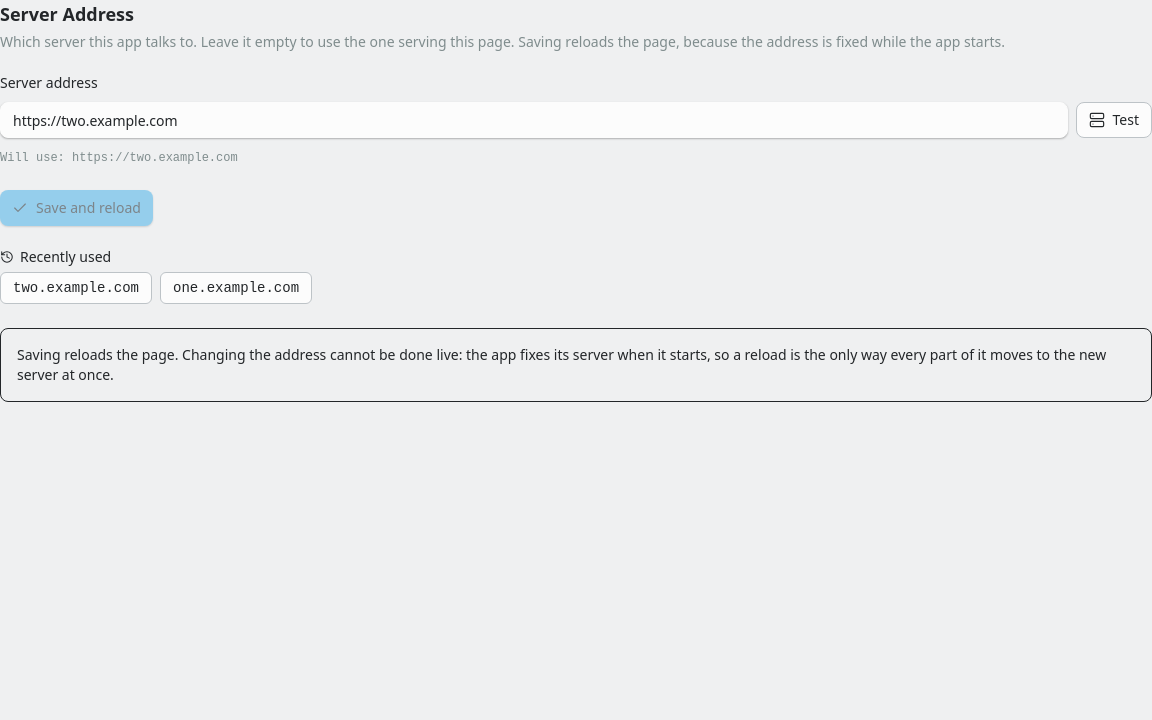
Test case: ServerSettings › fills the box from a recent server without saving it yet
The image size is (1152, 720).
Click the button "one.example.com" at (236, 288), box left=160, top=272, right=312, bottom=304
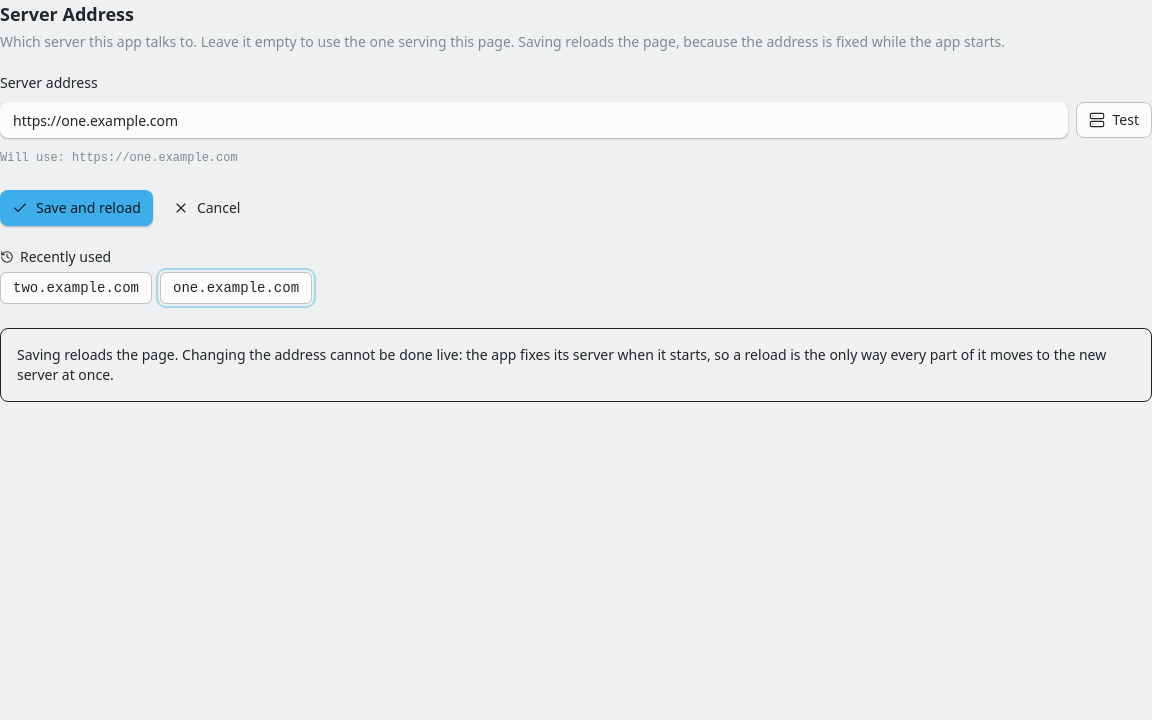
Expected: the field labelled "Server address" holds "https://one.example.com", left=0, top=102, right=1068, bottom=138
